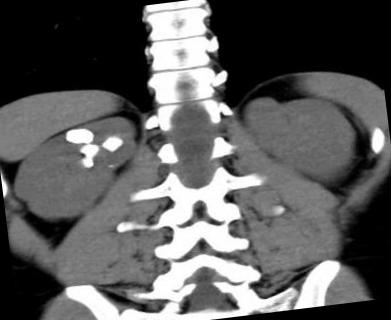Tas_Var: (64, 123, 96, 147), (101, 134, 124, 154), (78, 143, 100, 159), (80, 155, 96, 169), (107, 162, 116, 168)
